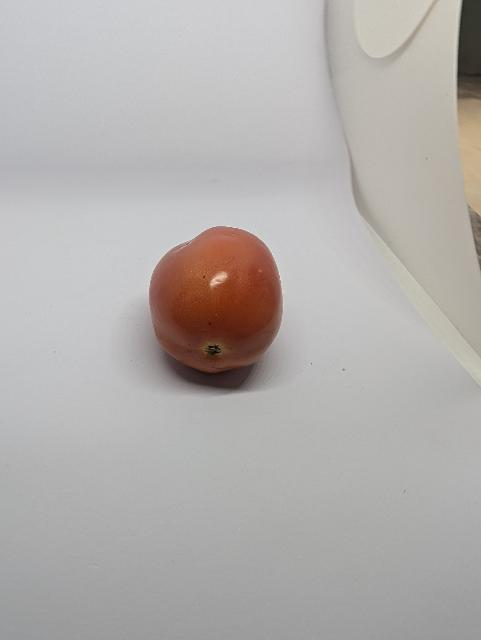red: (126, 217, 317, 395)
